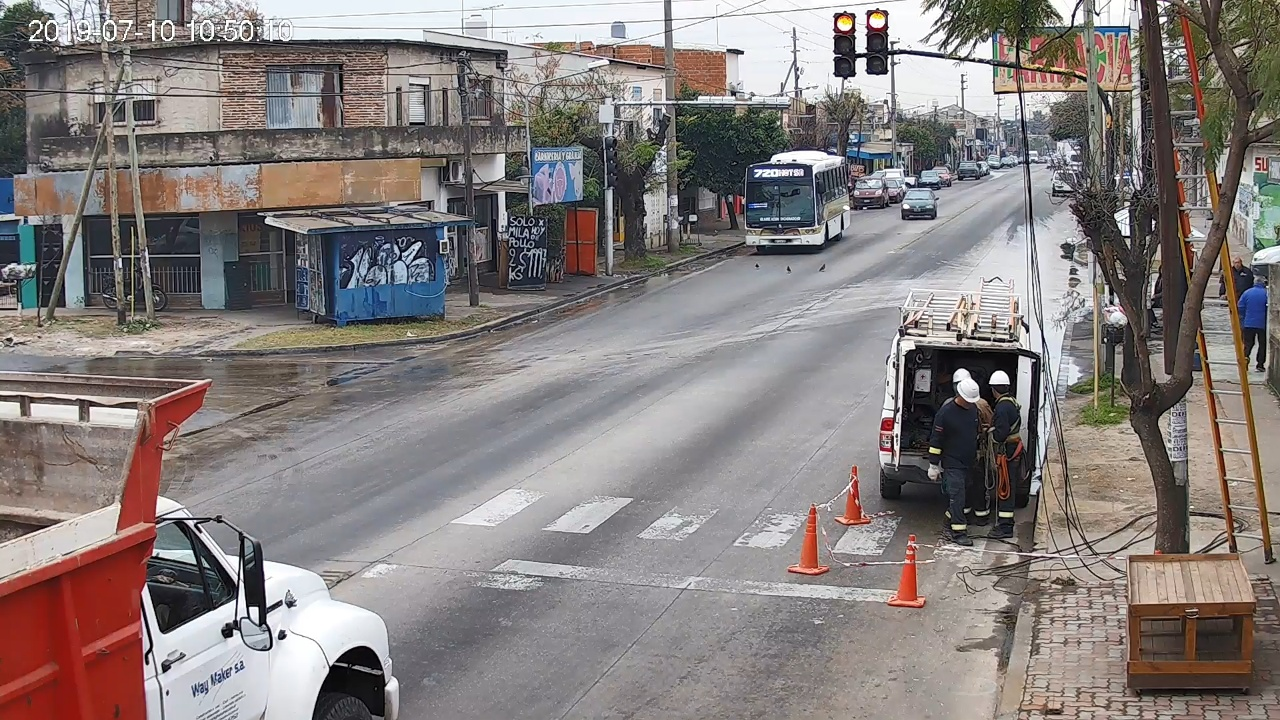front bus: (739, 151, 850, 252)
front car: (901, 188, 939, 219)
traffic light: (834, 13, 855, 76), (867, 11, 888, 74)
truck: (2, 368, 401, 720)
